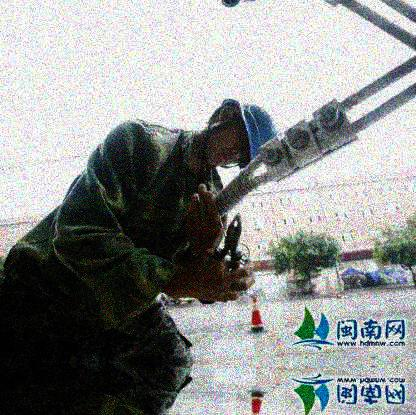helmet: (202, 96, 280, 167)
